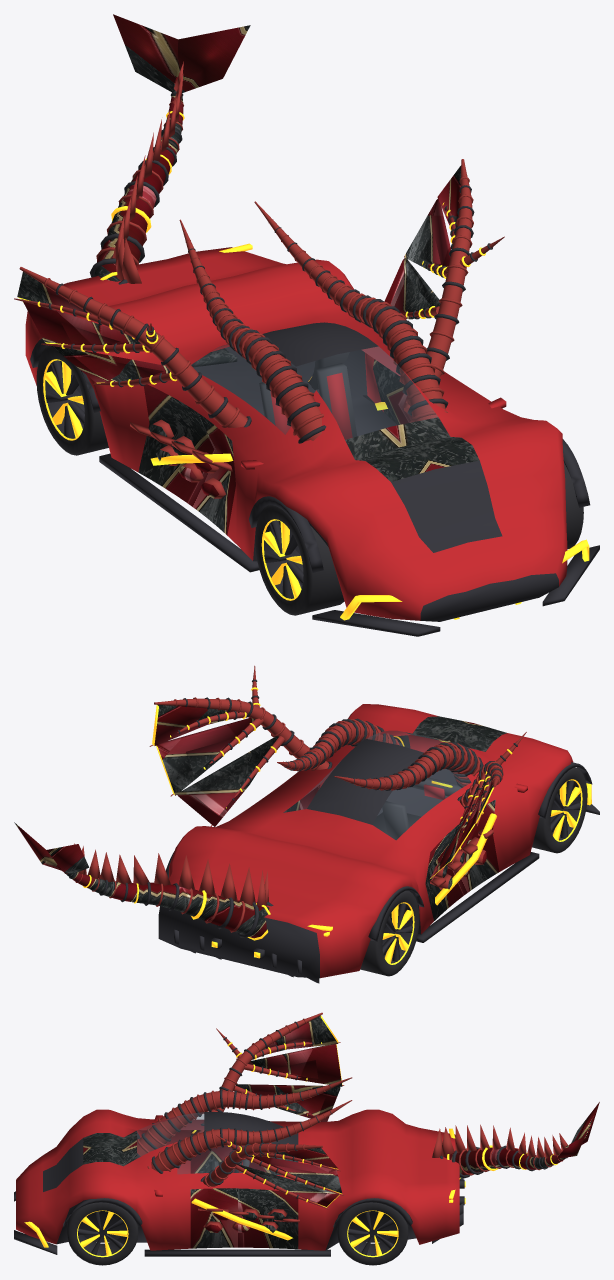
Rendered from dragon_car_a_crimson.glb.
3 renders of one model, top to bottom at view 1: azimuth 30°, elevation 25°; view 2: azimuth 150°, elevation 25°; view 3: azimuth 270°, elevation 25°, orthographic. The views are drawn at different scales.
Parts seen in each view (by area): view 1: Body_Chassis, Dragon_Wings, Dragon_Horns, Dragon_Tail, Wheel_FL, Wheel_RL, Wheel_FR; view 2: Body_Chassis, Dragon_Wings, Dragon_Tail, Dragon_Horns, Wheel_RL, Wheel_FL; view 3: Body_Chassis, Dragon_Wings, Dragon_Horns, Dragon_Tail, Wheel_FR, Wheel_RR.
Part boxes in pixels (box(x1,y1,x2,y2)): Body_Chassis: box(23, 243, 599, 636); Dragon_Wings: box(14, 159, 504, 427); Dragon_Horns: box(179, 201, 448, 443); Dragon_Tail: box(89, 14, 250, 284); Wheel_FL: box(255, 505, 344, 615); Wheel_RL: box(36, 345, 108, 455); Wheel_FR: box(564, 463, 583, 549); Body_Chassis: box(158, 704, 599, 983); Dragon_Wings: box(149, 665, 526, 881); Dragon_Tail: box(14, 822, 273, 940); Dragon_Horns: box(277, 718, 483, 790); Wheel_RL: box(360, 890, 419, 976); Wheel_FL: box(532, 767, 587, 853); Body_Chassis: box(14, 1109, 465, 1256); Dragon_Wings: box(196, 1012, 344, 1209); Dragon_Horns: box(137, 1077, 352, 1173); Dragon_Tail: box(432, 1102, 599, 1179); Wheel_FR: box(67, 1202, 138, 1265); Wheel_RR: box(337, 1202, 408, 1265).
Size of the model in its own units: 3.22 by 1.7 by 5.94.
Materials: 8 (1 with a texture image).
